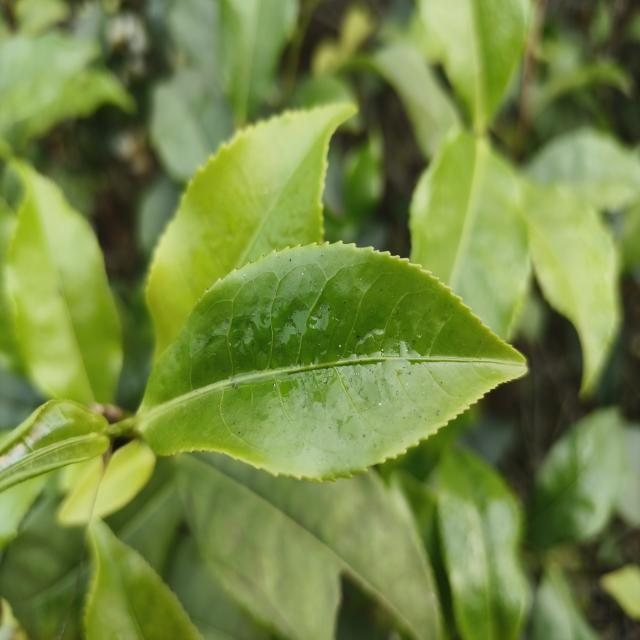Leaf: (129, 243, 526, 479), (146, 102, 356, 359), (177, 453, 441, 640), (3, 159, 123, 405), (409, 130, 530, 339), (521, 181, 620, 395), (436, 449, 529, 640), (418, 0, 530, 133), (85, 519, 201, 640), (527, 408, 626, 549), (0, 494, 91, 640), (0, 400, 110, 492), (219, 0, 298, 125), (525, 128, 640, 210), (0, 33, 97, 129), (105, 462, 184, 578), (150, 68, 230, 182), (57, 441, 156, 526), (530, 565, 598, 640)
